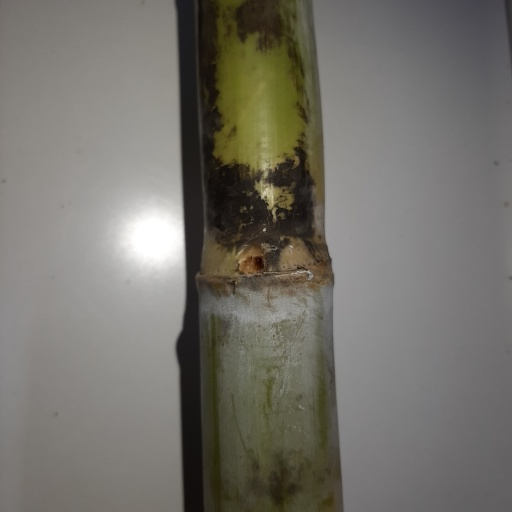Damage_Bud: (235, 243, 267, 278)
